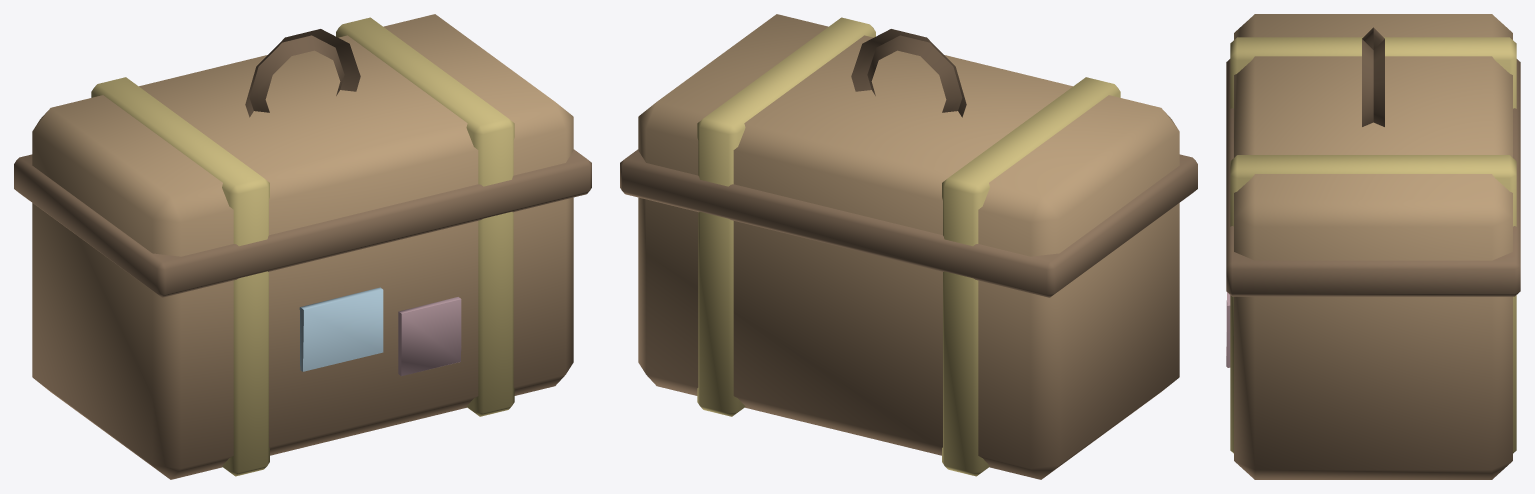
Rendered from travel_trunk.glb.
3 renders of one model, left to right at view 1: azimuth 30°, elevation 25°; view 2: azimuth 150°, elevation 25°; view 3: azimuth 270°, elevation 25°, orthographic.
Visible parts, largest first — view 1: travel_trunk; view 2: travel_trunk; view 3: travel_trunk.
Boxes of the visible parts, x1,y1,x2,y2 form: travel_trunk: [14, 14, 591, 479]; travel_trunk: [620, 14, 1197, 479]; travel_trunk: [1226, 14, 1520, 479].
Bounding box in the file's own units: 0.64 × 0.5058 × 0.38.
